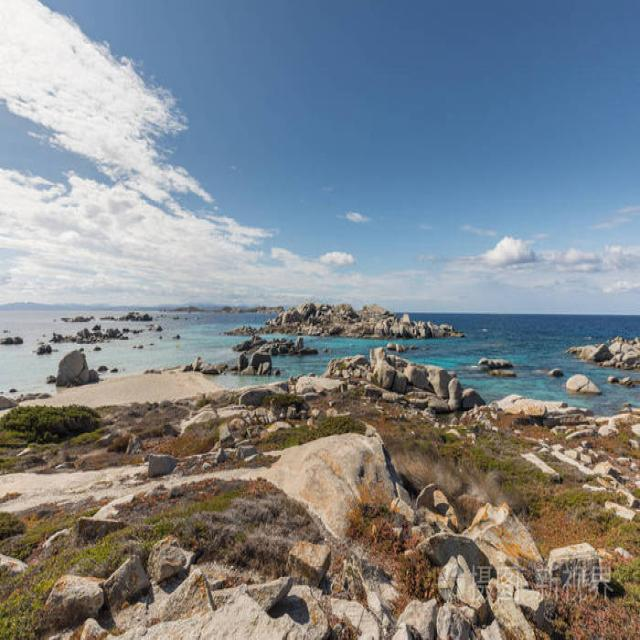reef: (280, 352, 500, 498), (205, 281, 460, 375), (48, 308, 172, 408), (566, 330, 637, 420)
